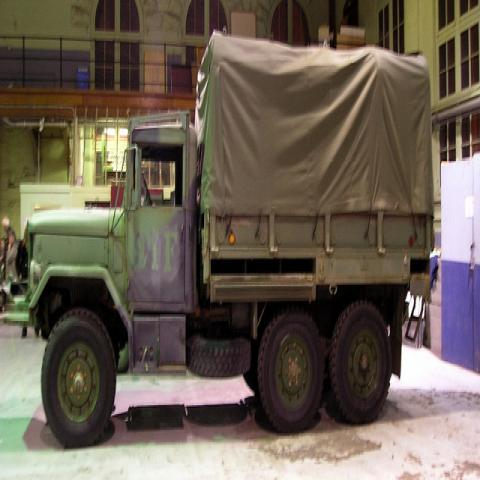truck: (22, 28, 435, 451)
